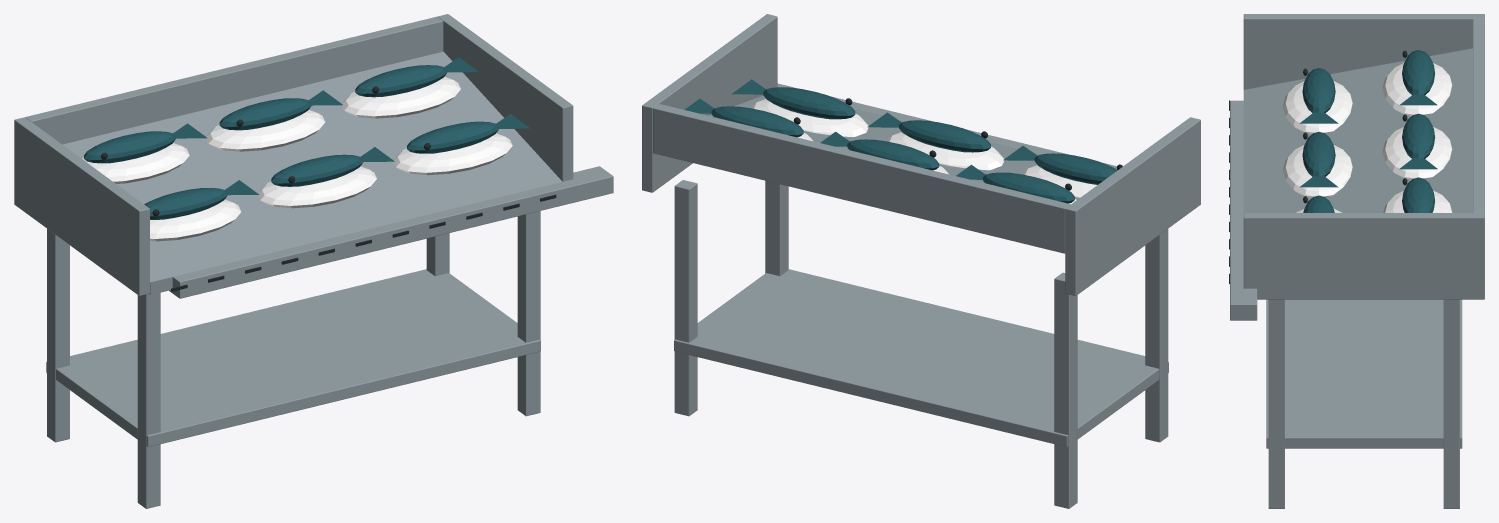
Rendered from source-edit.glb.
3 renders of one model, left to right at view 1: azimuth 30°, elevation 25°; view 2: azimuth 150°, elevation 25°; view 3: azimuth 270°, elevation 25°, orthographic. The views are drawn at different scales.
Visible parts, largest first — view 1: Lower_Shelf, Ice_Well_Base, Well_Back, Well_Side, Drain_Gutter, Well_Side.001, Leg, Leg.002, Leg.001, Ice_Mound.005, Ice_Mound.003, Ice_Mound.004 (+10 smaller); view 2: Lower_Shelf, Well_Back, Well_Side, Well_Side.001, Leg.003, Leg.001, Leg, Leg.002, Ice_Well_Base, Removable_Fish.005, Removable_Fish.003, Removable_Fish.001 (+7 smaller); view 3: Lower_Shelf, Well_Side.001, Ice_Well_Base, Well_Side, Leg.002, Leg.003, Drain_Gutter, Well_Back, Ice_Mound.001, Ice_Mound.002, Ice_Mound.003, Ice_Mound.004 (+11 smaller).
Boxes of the visible parts, box(x1,y1,x2,y2) form: Lower_Shelf: box(46, 269, 540, 447); Ice_Well_Base: box(62, 51, 562, 294); Well_Back: box(25, 16, 443, 144); Well_Side: box(14, 117, 149, 295); Drain_Gutter: box(169, 166, 613, 298); Well_Side.001: box(437, 14, 573, 181); Leg: box(137, 292, 160, 508); Leg.002: box(517, 211, 540, 416); Leg.001: box(47, 229, 69, 442); Ice_Mound.005: box(393, 133, 512, 175); Ice_Mound.003: box(258, 166, 376, 208); Ice_Mound.004: box(206, 110, 325, 151); Lower_Shelf: box(674, 269, 1168, 446); Well_Back: box(653, 103, 1070, 253); Well_Side: box(1065, 117, 1200, 295); Well_Side.001: box(642, 14, 777, 192); Leg.003: box(674, 180, 697, 416); Leg.001: box(1054, 272, 1077, 508); Leg: box(1145, 229, 1168, 442); Leg.002: box(765, 180, 788, 276); Ice_Well_Base: box(709, 95, 1079, 199); Removable_Fish.005: box(763, 87, 855, 119); Removable_Fish.003: box(899, 120, 990, 152); Removable_Fish.001: box(1034, 153, 1117, 184); Lower_Shelf: box(1266, 299, 1462, 448); Well_Side.001: box(1243, 213, 1484, 299); Ice_Well_Base: box(1243, 48, 1472, 212); Well_Side: box(1243, 14, 1484, 89); Leg.002: box(1268, 299, 1284, 508); Leg.003: box(1443, 299, 1459, 508); Drain_Gutter: box(1230, 100, 1257, 320); Well_Back: box(1473, 19, 1484, 212); Ice_Mound.001: box(1283, 81, 1352, 133); Ice_Mound.002: box(1382, 63, 1452, 115); Ice_Mound.003: box(1283, 145, 1352, 197); Ice_Mound.004: box(1382, 127, 1452, 179).
Size of the model in its own units: 1.72 by 1.1 by 0.8485.
